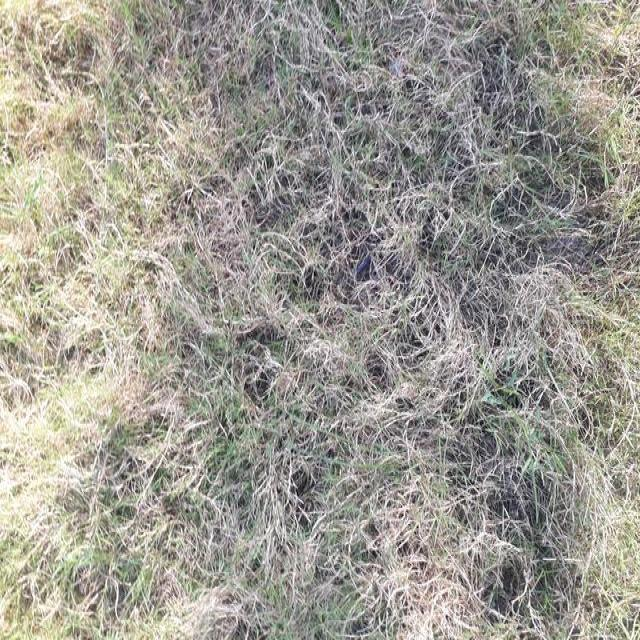weed: (0, 9, 638, 636)
